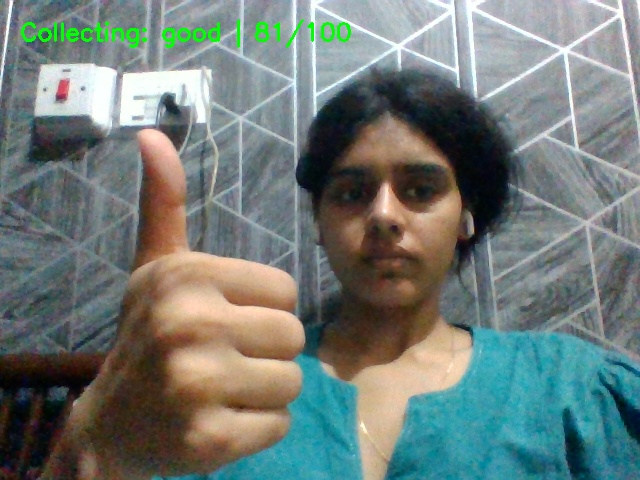good: (76, 122, 361, 480)
